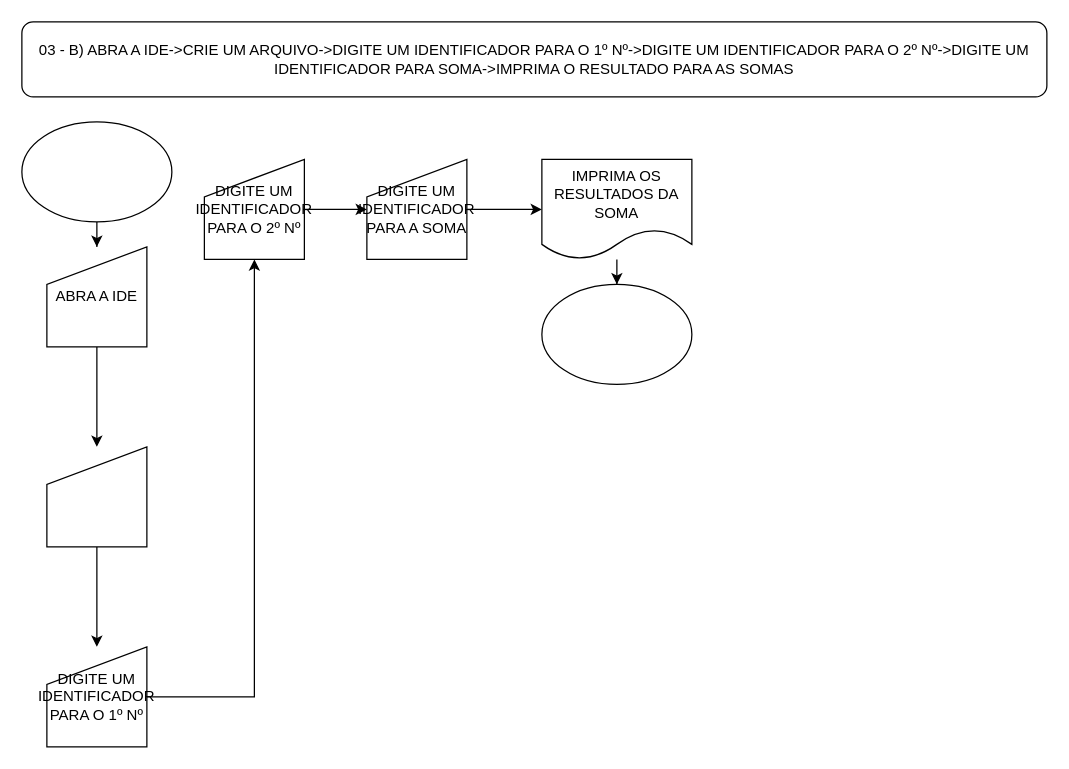
This 1069x769 diagram has some shape labels left out. Each missing label, with the centre of its shape:
"CRIE UM ARQUIVO" goes at point (96, 496).
"FIM" goes at point (616, 333).
"INÍCIO" goes at point (96, 171).
